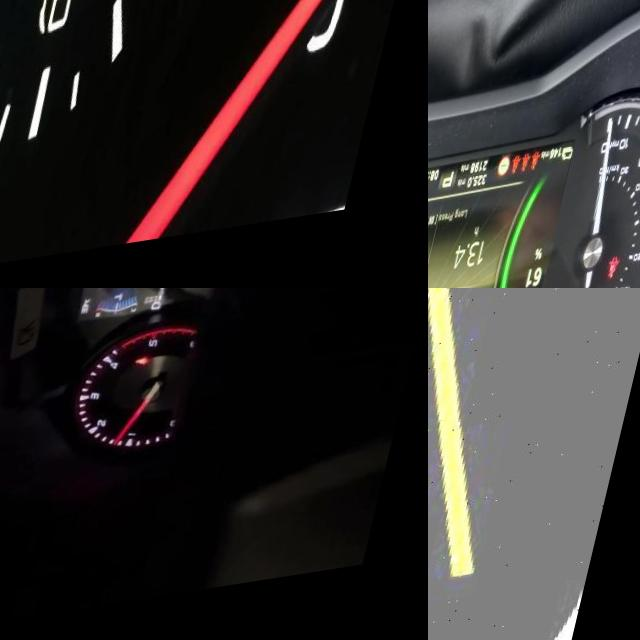Seat Belt: (540, 163, 553, 185), (620, 273, 638, 288), (531, 166, 542, 185), (521, 167, 531, 186), (153, 365, 169, 376)
